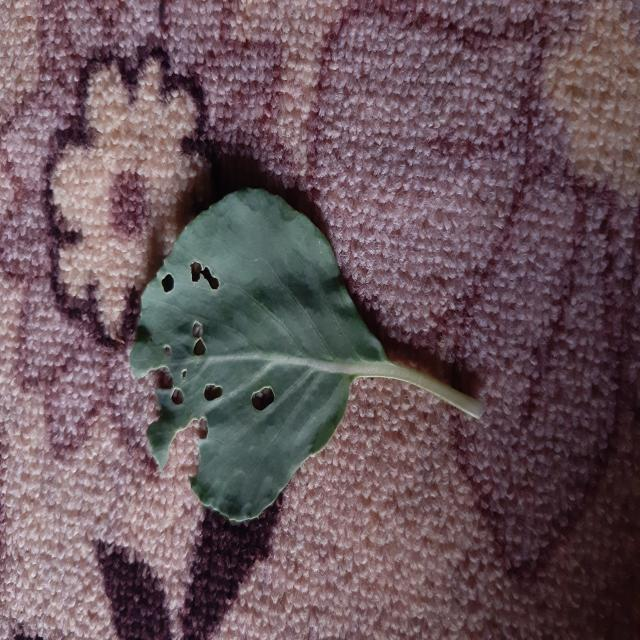Kohlrabi: (130, 189, 484, 522)
